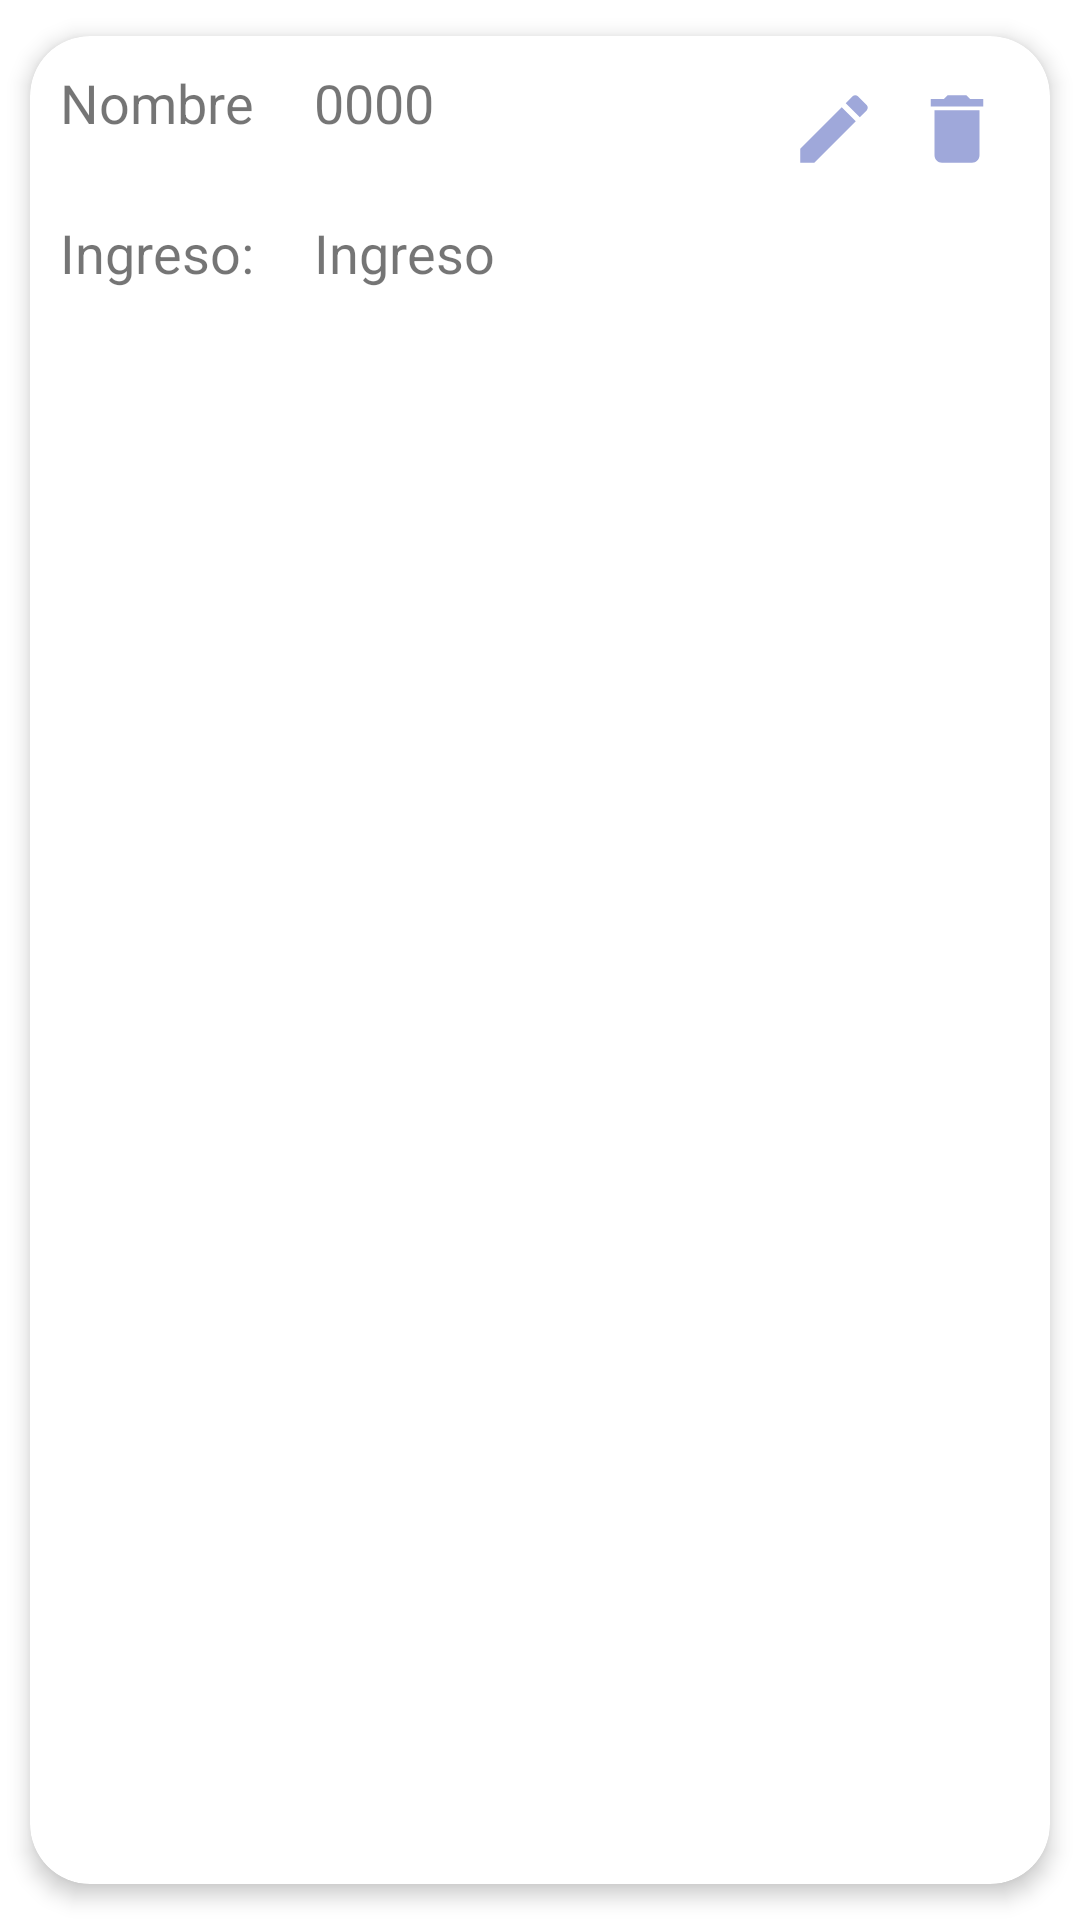

Screen size 1080px×1920px. Icon name, then its box in pixels as (x1, y1, x2, y2):
delete: (931, 95, 983, 163)
edit: (800, 95, 868, 163)
